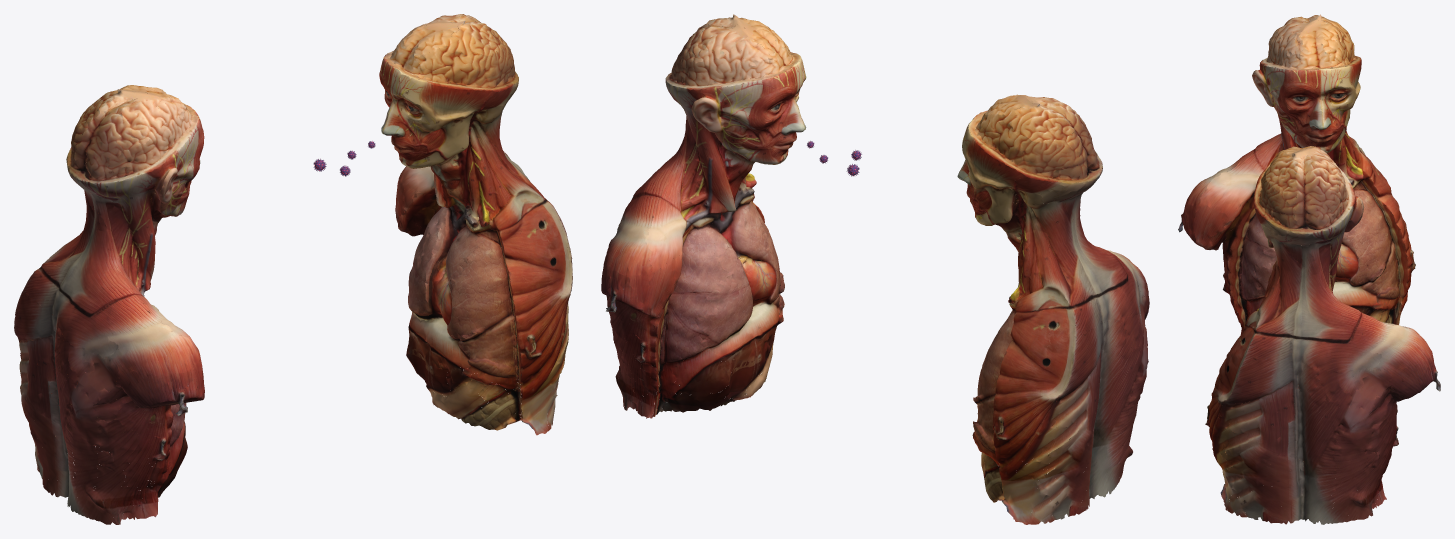
Rendered from tbc-que-es.glb.
The picture shows the model from 3 angles, left to right: view 1: azimuth 30°, elevation 25°; view 2: azimuth 150°, elevation 25°; view 3: azimuth 270°, elevation 25°; orthographic projection. The views are drawn at different scales.
Parts seen in each view (by area): view 1: Bodyperson2, Bodyperson1; view 2: Bodyperson2, Bodyperson1; view 3: Bodyperson1, Bodyperson2.
Boxes of the visible parts, box(x1,y1,x2,y2) form: Bodyperson2: box(14, 85, 204, 524); Bodyperson1: box(379, 14, 572, 435); Bodyperson2: box(957, 94, 1149, 524); Bodyperson1: box(601, 14, 806, 418); Bodyperson1: box(1205, 146, 1440, 524); Bodyperson2: box(1178, 14, 1415, 334).
Bounding box in the file's own units: 4.97 × 3.76 × 2.62.
Materials: 2 (2 with a texture image).
